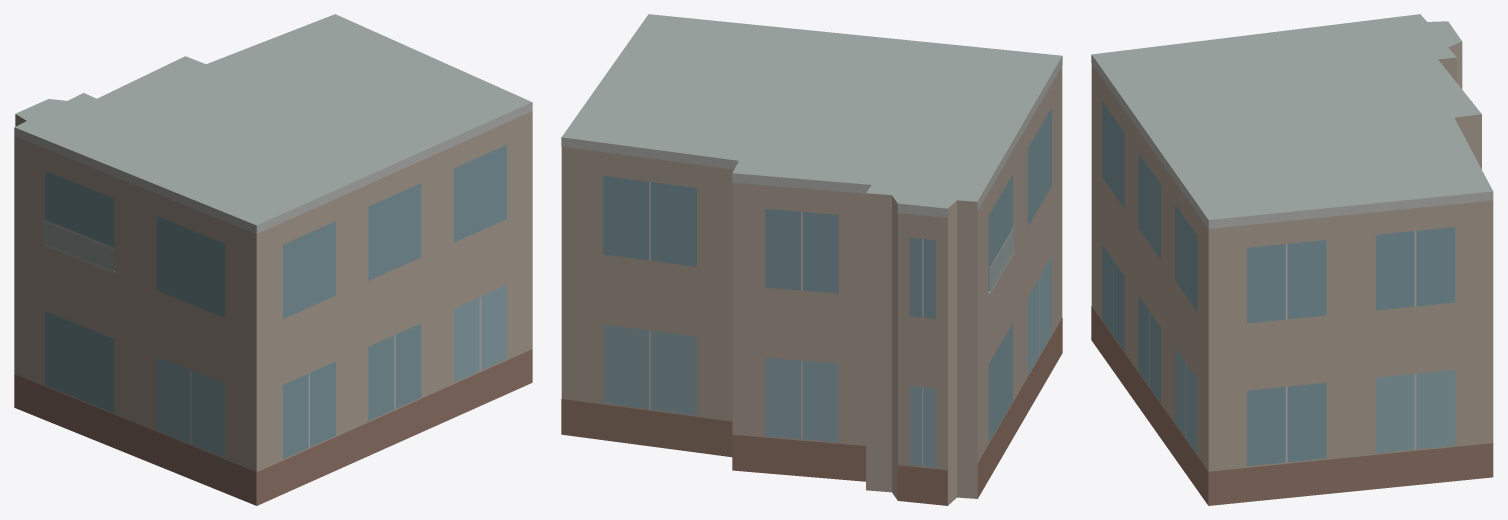
Rendered from survey-upis-32989526.glb.
3 renders of one model, left to right at view 1: azimuth 30°, elevation 25°; view 2: azimuth 150°, elevation 25°; view 3: azimuth 270°, elevation 25°, orthographic. The views are drawn at different scales.
Parts seen in each view (by area): view 1: survey-upis-32989526.tmp; view 2: survey-upis-32989526.tmp; view 3: survey-upis-32989526.tmp.
Part boxes in pixels (<box>): survey-upis-32989526.tmp: <box>14,14,532,505</box>; survey-upis-32989526.tmp: <box>561,14,1062,505</box>; survey-upis-32989526.tmp: <box>1091,14,1493,505</box>.
Bounding box in the file's own units: 12.07 × 7.8 × 9.95.
